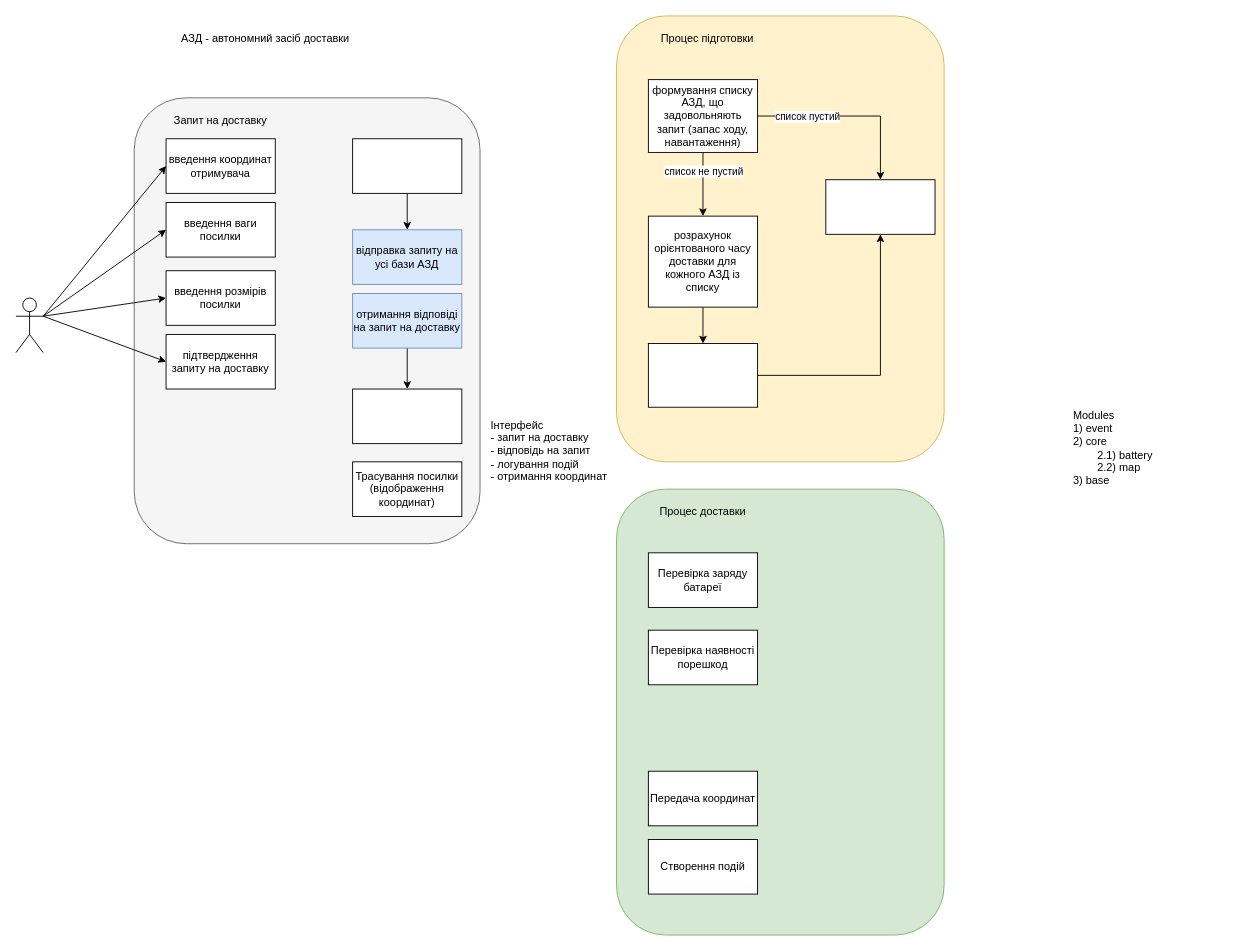
Some shapes in this 1242 by 951 pixel diagram are drawn without their labels. The centre of each missing label's shape, as x and y in pixels:
"Actor" belongs at pixel 29 325.
"вибір єдиного АЗД за параметром - найменший час доставки" belongs at pixel 702 375.
"відображення відповіді на запит на доставку" belongs at pixel 407 416.
"відповідь на запит" belongs at pixel 880 206.
"формування запиту на доставку" belongs at pixel 407 165.
